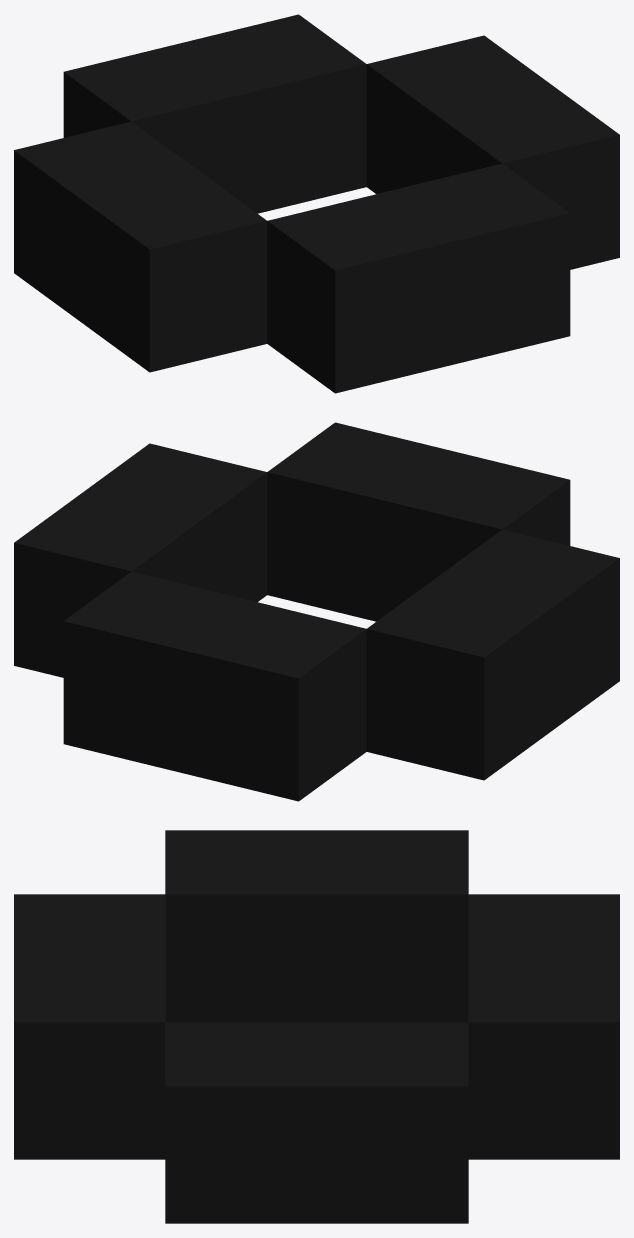
The model's file is SmallSoftLightExterior.obj.
The picture shows the model from 3 angles, top to bottom: view 1: azimuth 30°, elevation 25°; view 2: azimuth 150°, elevation 25°; view 3: azimuth 270°, elevation 25°; orthographic projection. The views are drawn at different scales.
Bounding box in the file's own units: 0.4 × 0.1 × 0.4.
1 material, 1 textured.
